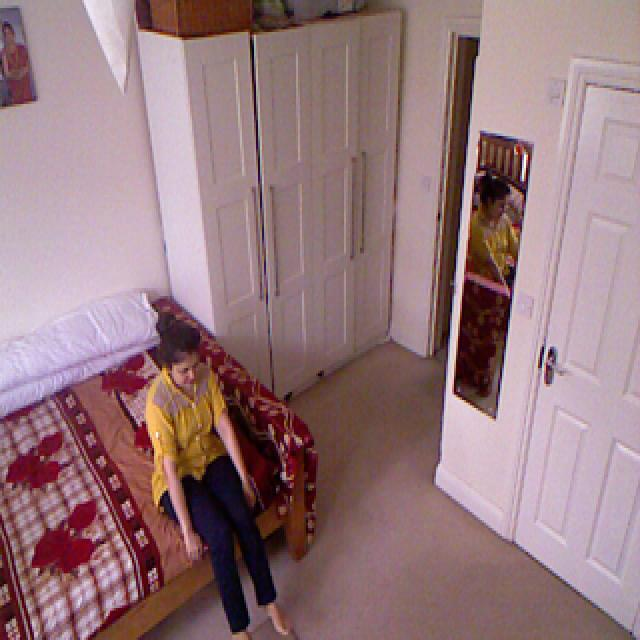sitting: (143, 307, 292, 638)
